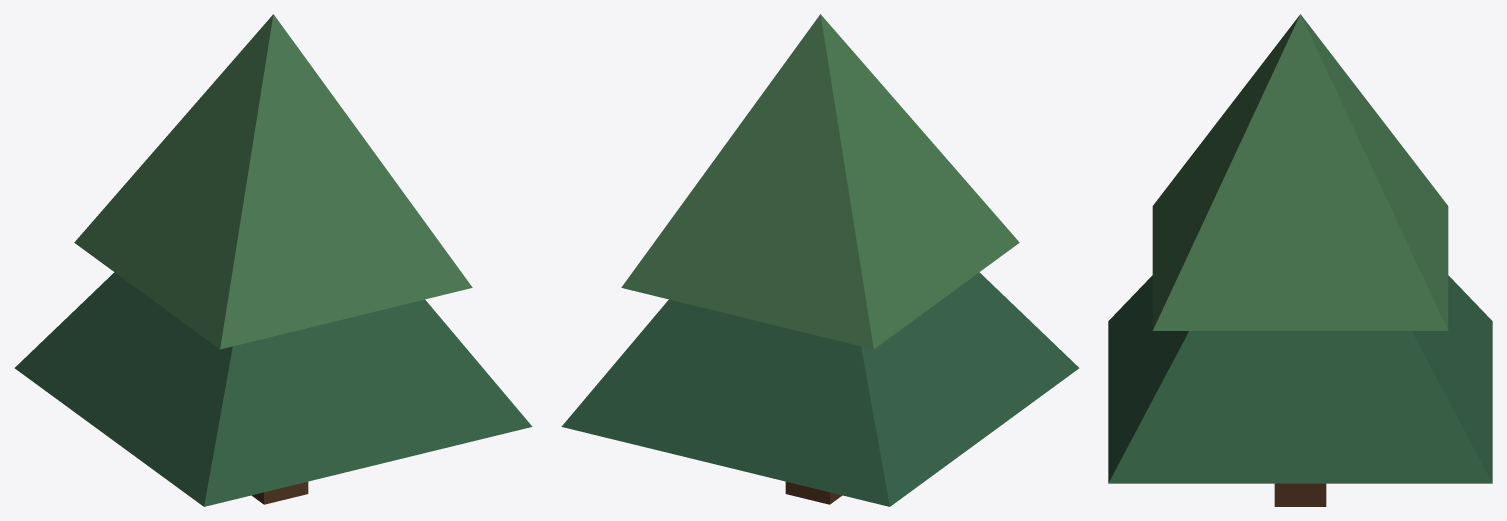
Rendered from pine.obj.
The picture shows the model from 3 angles, left to right: view 1: azimuth 30°, elevation 25°; view 2: azimuth 150°, elevation 25°; view 3: azimuth 270°, elevation 25°; orthographic projection.
Size of the model in its own units: 2.6 by 3.6 by 2.6.
